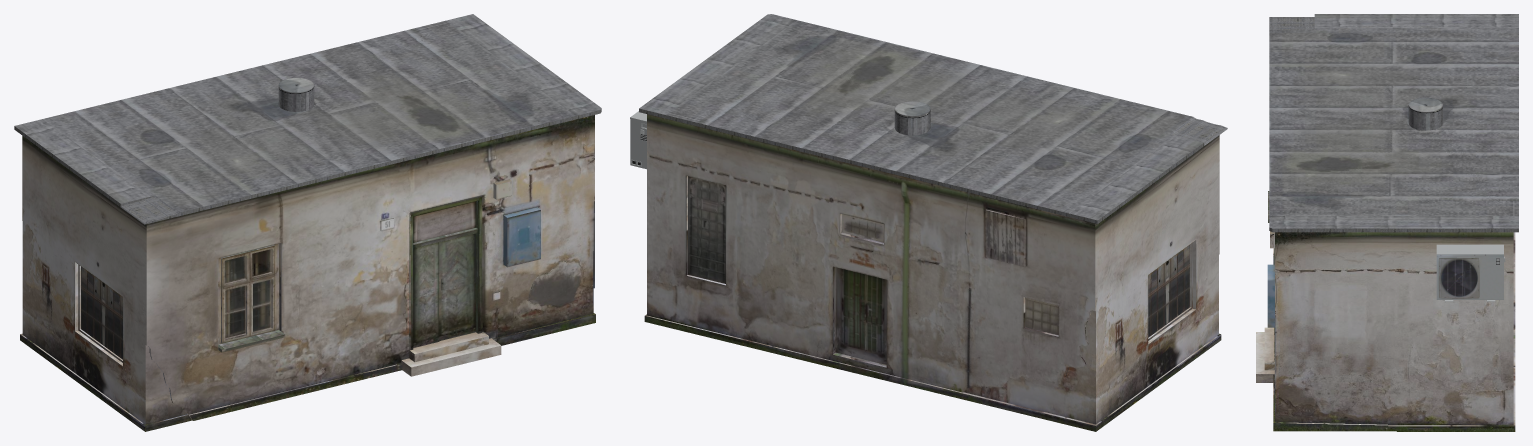
3 renders of one model, left to right at view 1: azimuth 30°, elevation 25°; view 2: azimuth 150°, elevation 25°; view 3: azimuth 270°, elevation 25°, orthographic. The views are drawn at different scales.
Visible parts, largest first — view 1: hurda; view 2: hurda; view 3: hurda.
Boxes of the visible parts, <box> form: hurda: <box>14,14,601,431</box>; hurda: <box>630,14,1227,431</box>; hurda: <box>1256,14,1518,431</box>.
Bounding box in the file's own units: 197 × 91.69 × 97.75.
Materials: 16 (15 with a texture image).
